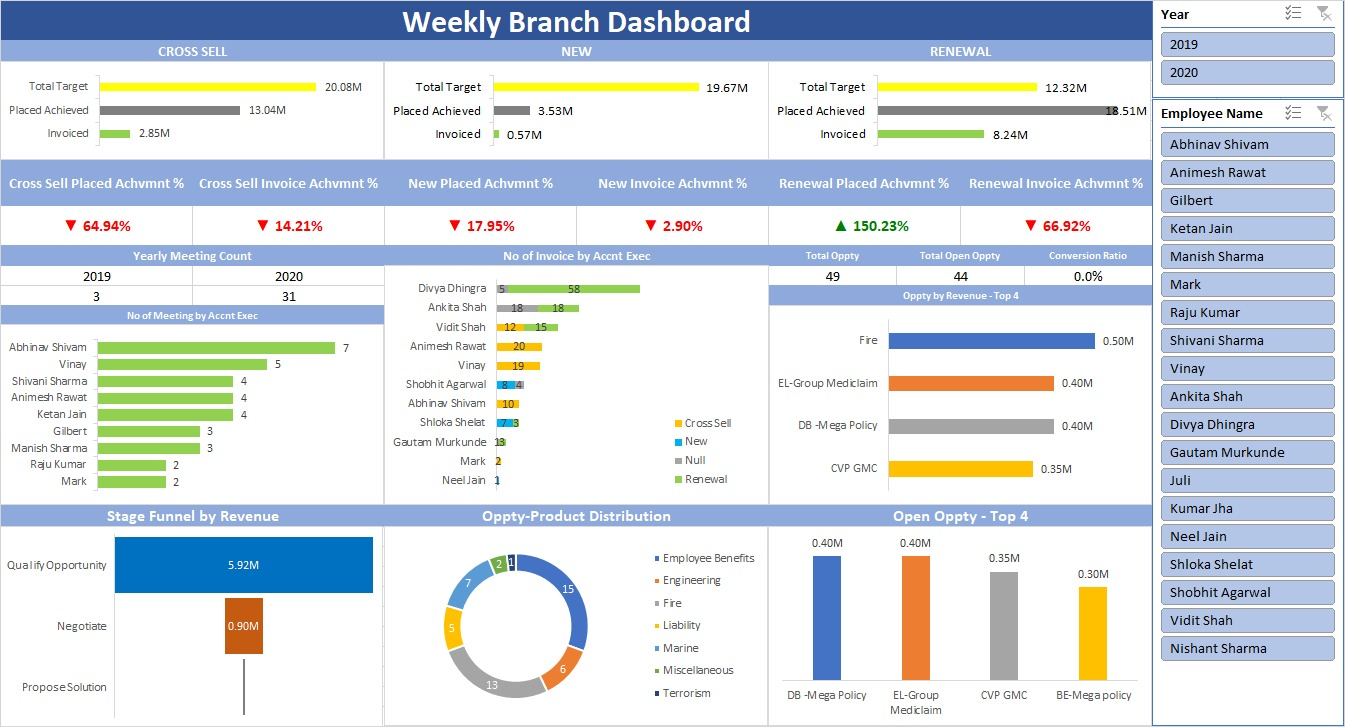

What the dashboard file says about the page in this screenshot:
{"tool":"tableau","page":{"name":"Weekly Branch Dashboard","canvas":[1000,1000],"units":"permille","ordinal":0},"visuals":[{"type":"text","box":[7,13.7,986,55.8]},{"type":"worksheet","title":"Cross Sell KPI","mark":"Automatic","box":[7,69.5,326.3,158.2]},{"type":"worksheet","title":"New KPI","mark":"Automatic","box":[333.3,69.5,333.4,158.2]},{"type":"worksheet","title":"Renewal KPI","mark":"Automatic","box":[666.6,69.5,326.4,158.2]},{"type":"worksheet","title":"Placed % Cards","mark":"Text","cols":["Calculation_1302436329992193"],"box":[7,227.7,258.1,125]},{"type":"worksheet","title":"Invoice % Cards","mark":"Text","cols":["Calculation_1302436329992193"],"box":[265.1,227.7,253.7,125]},{"type":"worksheet","title":"Yearly Meeting Count","mark":"Text","cols":["meeting_date"],"box":[518.8,227.7,231,125]},{"type":"worksheet","title":"Opportunity KPIs","mark":"Automatic","box":[749.8,227.7,243.2,75.3]},{"type":"worksheet","title":"Oppty by Revenue Top 4","mark":"Automatic","rows":["opportunity_name"],"cols":["revenue_amount"],"box":[749.8,303,243.2,363]},{"type":"worksheet","title":"Meetings by Exec","mark":"Automatic","rows":["Account Executive (meeting!list!202001231041)"],"cols":["meeting!list!202001231041_84411F9538AD4586827A4F2D97D018DF"],"box":[7,352.7,383.2,313.4]},{"type":"worksheet","title":"Invoices by Exec","mark":"Automatic","rows":["Account Executive (invoice!202001231041)"],"cols":["invoice!202001231041_B320B14825DB4EEDB93164D73A91ED6D"],"box":[390.2,352.7,359.6,313.4]},{"type":"worksheet","title":"Stage Funnel","mark":"GanttBar","rows":["stage"],"cols":["Calculation_1302712602550279"],"box":[7,666.1,383.2,320.2]},{"type":"worksheet","title":"Product Distribution","mark":"Pie","rows":["Calculation_1302712604336137","Calculation_1302712604356619"],"box":[390.2,666.1,359.6,320.2]},{"type":"worksheet","title":"Open Oppty - Top 4","mark":"Automatic","rows":["Calculation_1302712598863874"],"cols":["opportunity_name"],"box":[749.8,666.1,243.2,320.2]}]}

Visuals, with their boxes on the dashboard's canvas, which has no fixed pixel size, in thousandths of its width and height (x1, y1, x2, y2). These are canvas units, not pixel positions in the 1345x727 screenshot, which may show the page scaled, cropped or inside an application window:
text: rect(7, 14, 993, 70)
"Cross Sell KPI" worksheet: rect(7, 70, 333, 228)
"New KPI" worksheet: rect(333, 70, 667, 228)
"Renewal KPI" worksheet: rect(667, 70, 993, 228)
"Placed % Cards" worksheet (Text marks): rect(7, 228, 265, 353)
"Invoice % Cards" worksheet (Text marks): rect(265, 228, 519, 353)
"Yearly Meeting Count" worksheet (Text marks): rect(519, 228, 750, 353)
"Opportunity KPIs" worksheet: rect(750, 228, 993, 303)
"Oppty by Revenue Top 4" worksheet: rect(750, 303, 993, 666)
"Meetings by Exec" worksheet: rect(7, 353, 390, 666)
"Invoices by Exec" worksheet: rect(390, 353, 750, 666)
"Stage Funnel" worksheet (GanttBar marks): rect(7, 666, 390, 986)
"Product Distribution" worksheet (Pie marks): rect(390, 666, 750, 986)
"Open Oppty - Top 4" worksheet: rect(750, 666, 993, 986)
